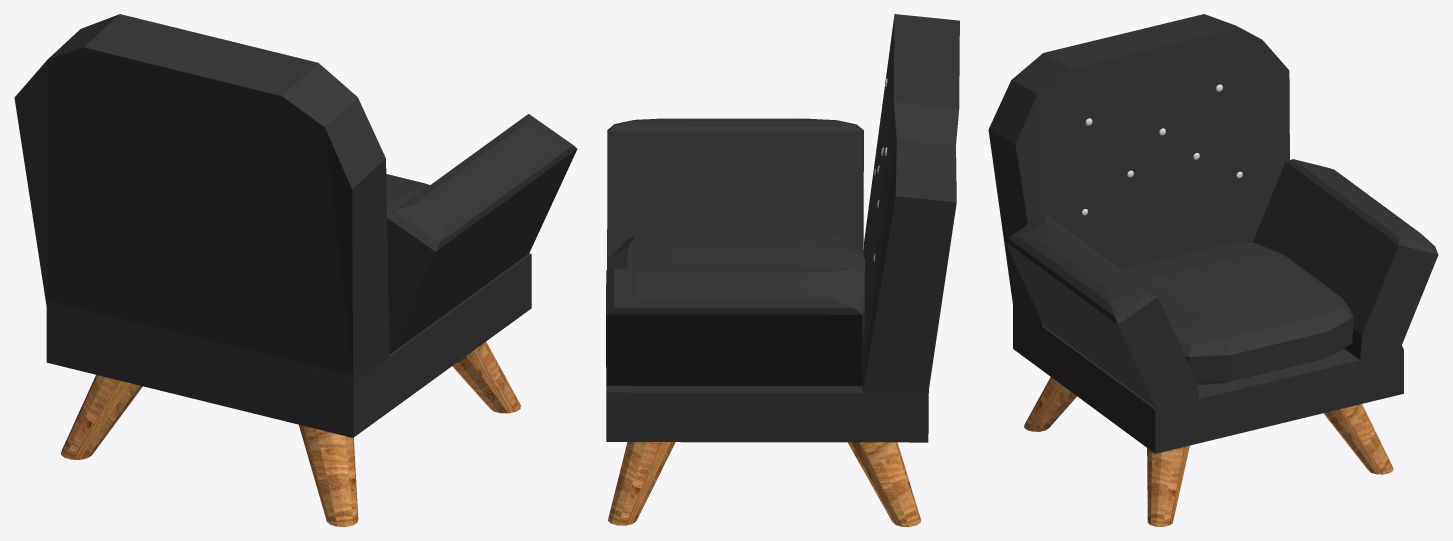
Rendered from Sessel.fbx.
3 views of the same model, side by side, from view 1: azimuth 30°, elevation 25°; view 2: azimuth 150°, elevation 25°; view 3: azimuth 270°, elevation 25° (orthographic). The views are drawn at different scales.
Parts seen in each view (by area): view 1: Sessel, Füßchen, Füßchen.003, Füßchen.005, Cube.009; view 2: Sessel, Cube.009, Füßchen.003, Füßchen.004; view 3: Sessel, Cube.009, Füßchen.005, Füßchen.004, Füßchen.
Boxes of the visible parts, x1,y1,x2,y2 form: Sessel: (14,14,577,437); Füßchen: (299,424,358,526); Füßchen.003: (61,375,142,459); Füßchen.005: (452,341,520,413); Cube.009: (386,174,429,216); Sessel: (606,14,959,442); Cube.009: (608,229,864,341); Füßchen.003: (848,442,920,526); Füßchen.004: (608,442,675,525); Sessel: (988,14,1438,453); Cube.009: (1122,243,1353,384); Füßchen.005: (1147,445,1189,526); Füßchen.004: (1323,404,1393,474); Füßchen: (1024,377,1076,431).
Size of the model in its own units: 143 by 128 by 146.
